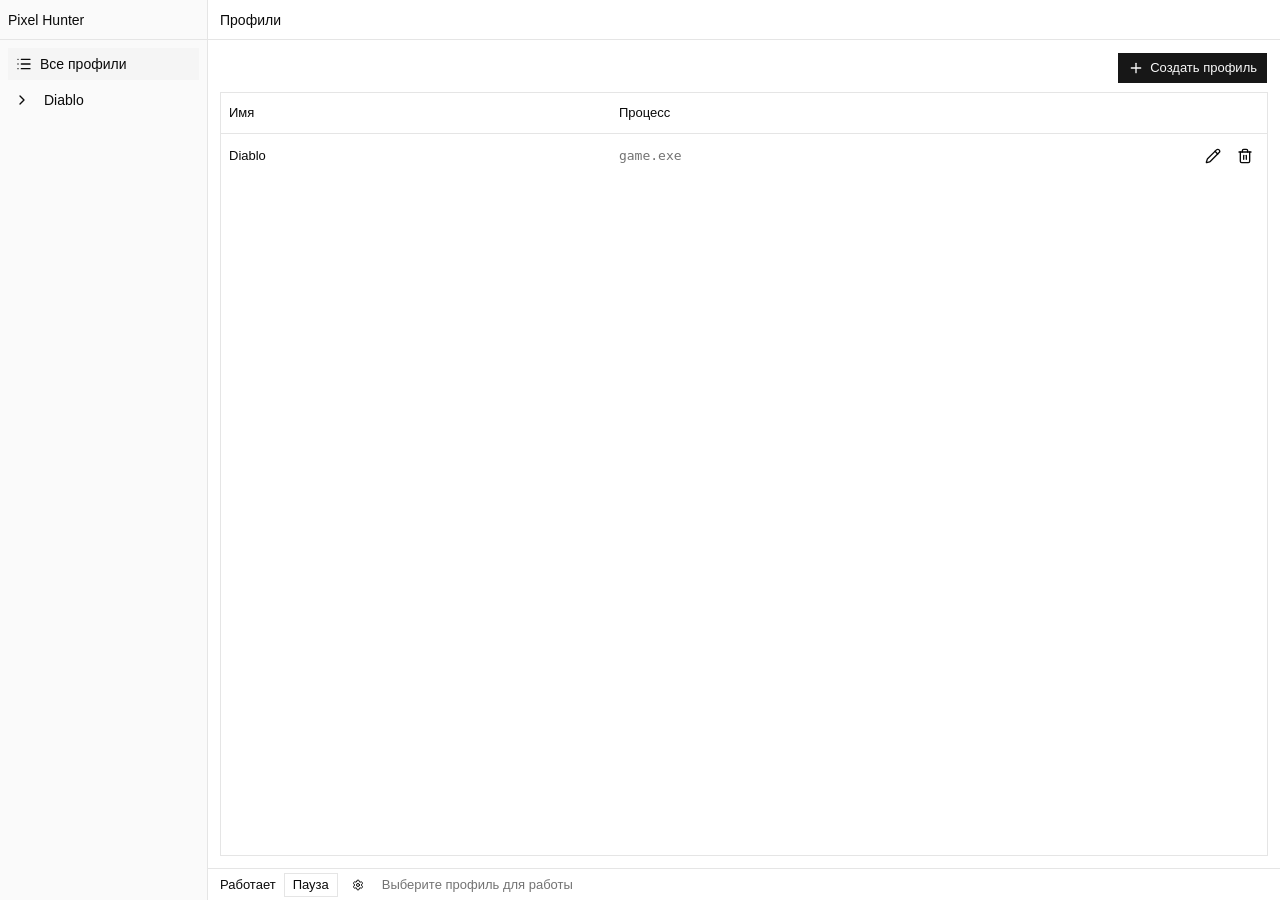
Test: ProfilesPage › keeps the profile when deletion is cancelled
The image size is (1280, 900).
Click the button named "Удалить профиль «Diablo»" at (1245, 156), box x1=1231 y1=142 x2=1259 y2=170
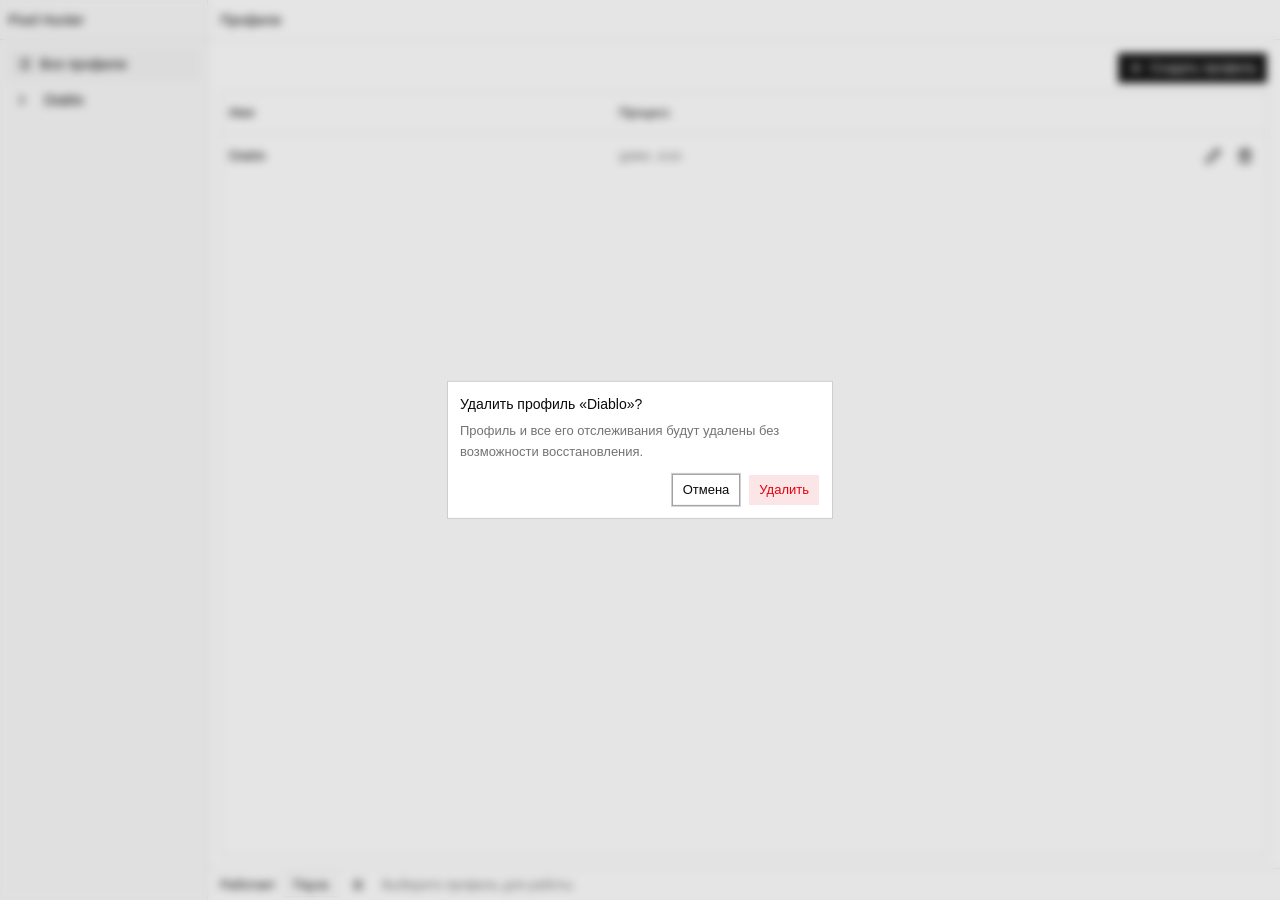
Click the button "Отмена" at (706, 490), box x1=672 y1=474 x2=740 y2=506
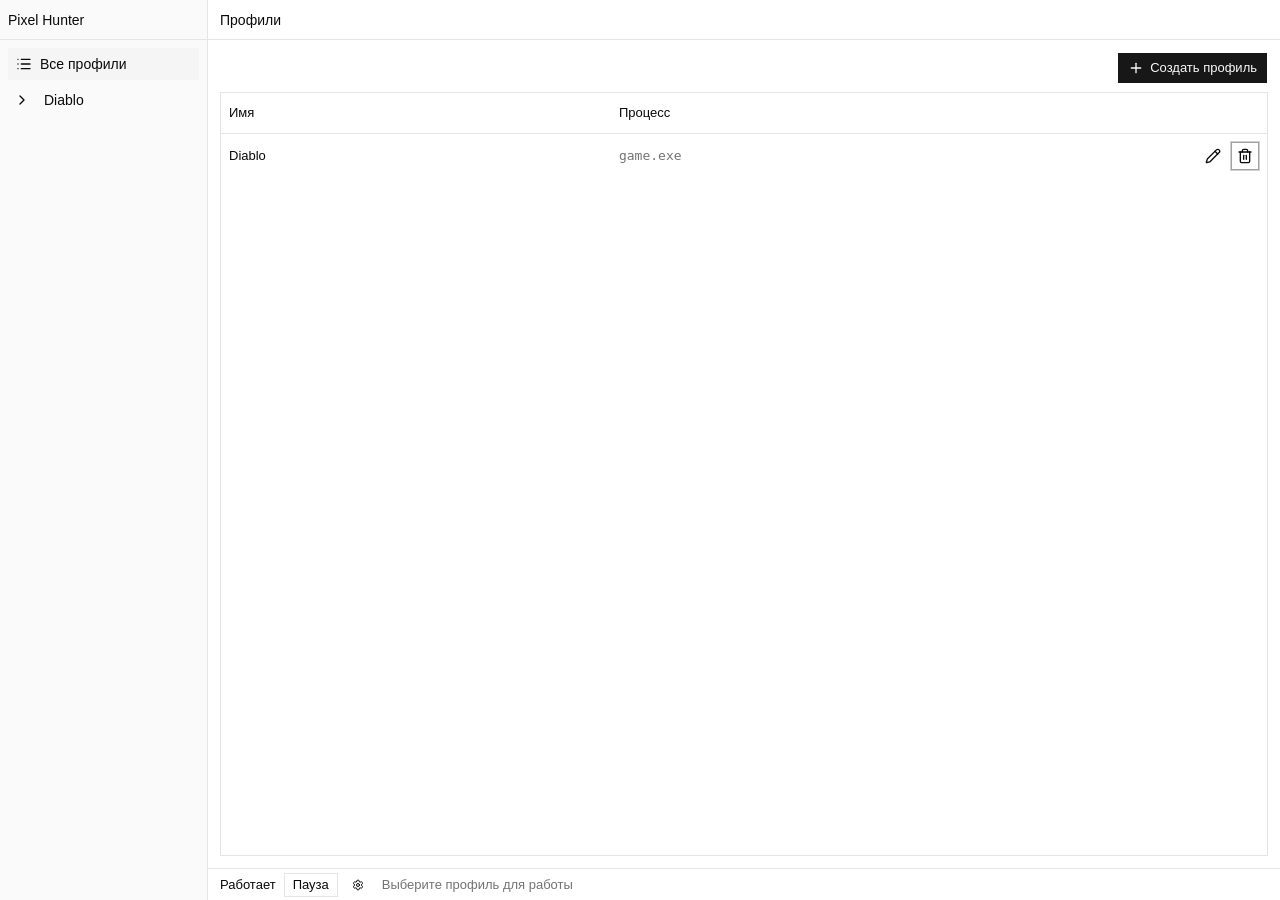
Expected: the link "Diablo" in the row of "game.exe" is shown, x1=229 y1=148 x2=266 y2=162
Expected: the dialog is gone
